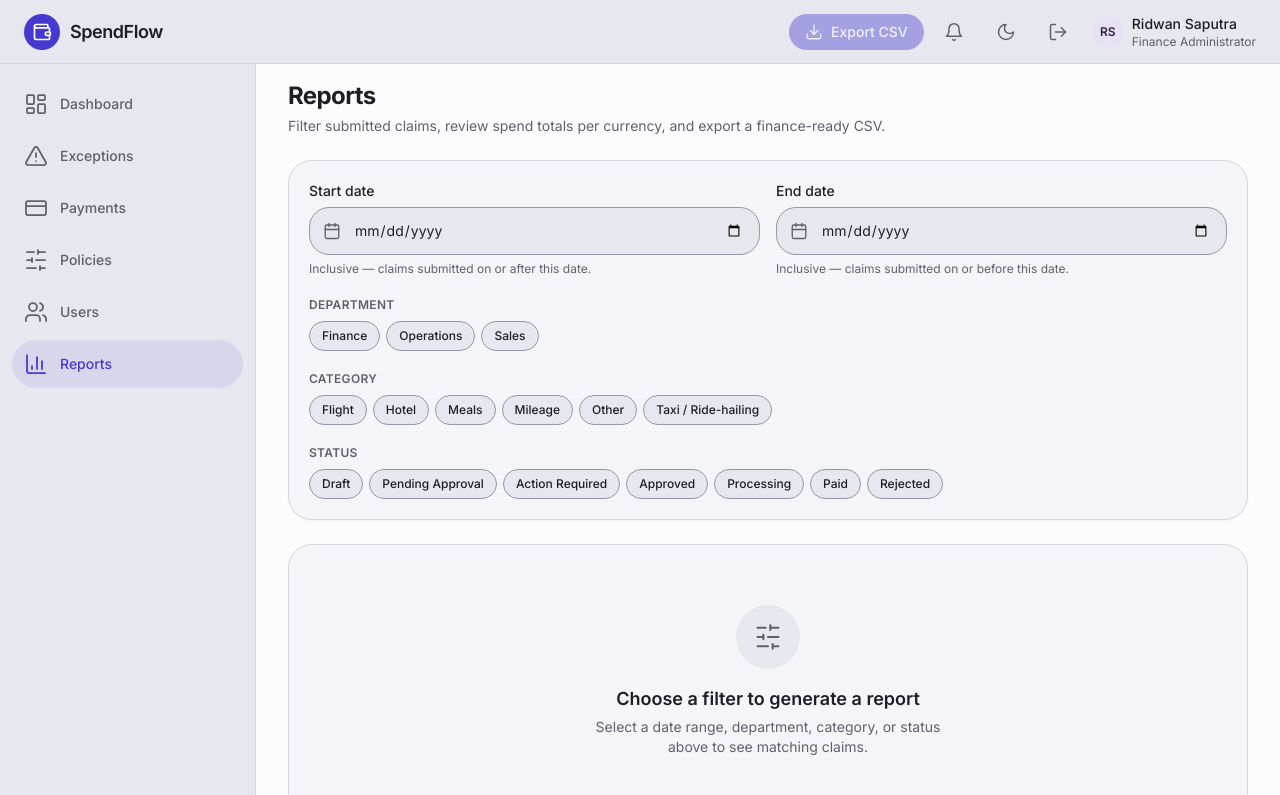
Test: Reports page — combinable filters › shows an empty state (zero rows) when a valid filter set matches nothing
The width and height of the screenshot is (1280, 795).
Expected: the heading "Choose a filter to generate a report" is shown, 616,685 -> 920,713
Click the button "Paid" at (836,484), box 810,469 -> 861,499
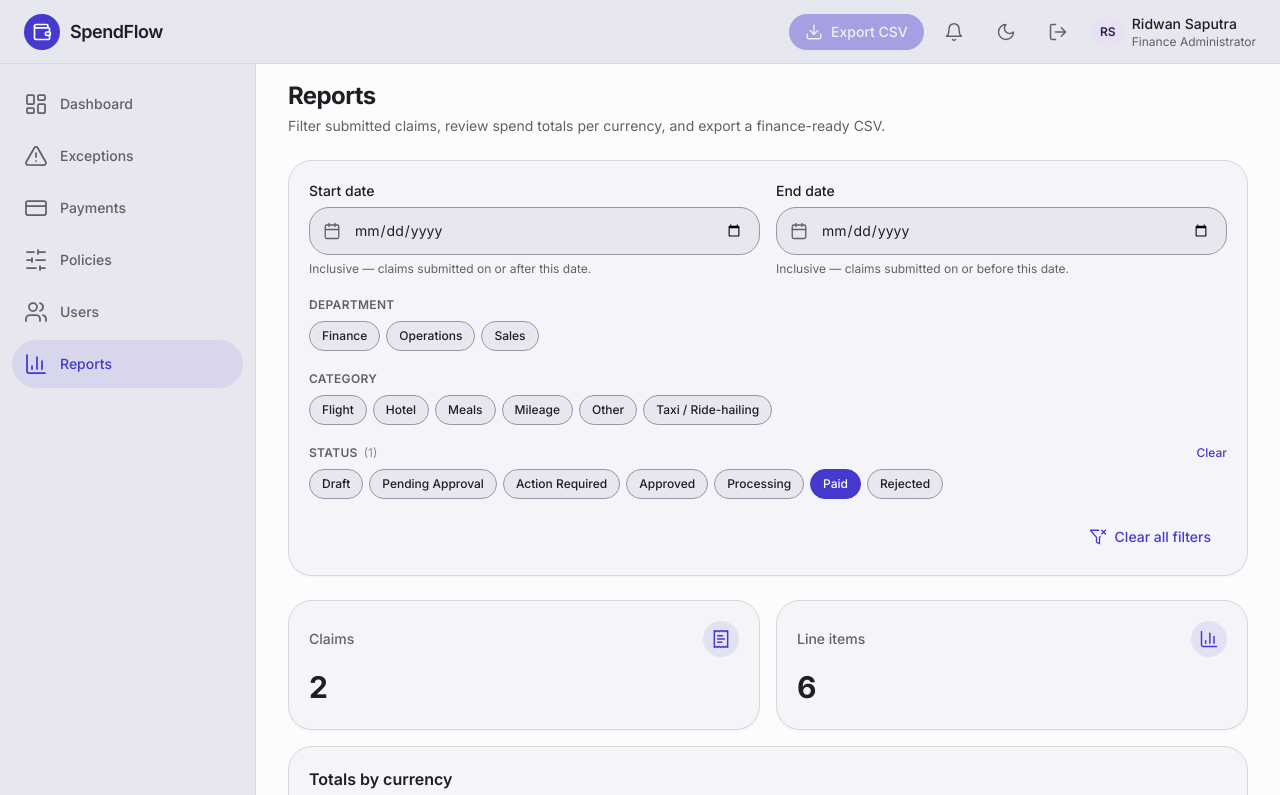
Type "2020-01-01" into the date field labelled "Start date" at (534,231), box 309,207 -> 760,255
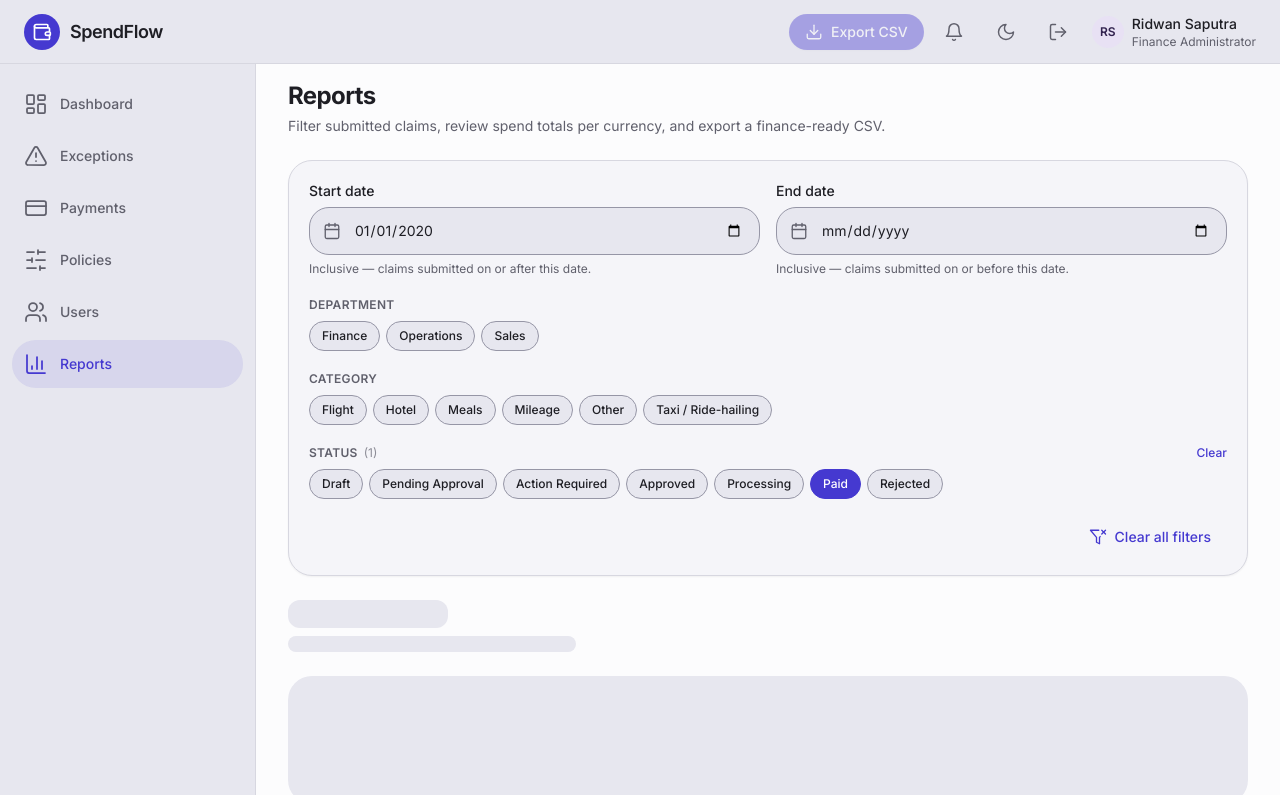
Type "2020-12-31" into the date field labelled "End date" at (1002,231), box 776,207 -> 1227,255
(page scrolled)
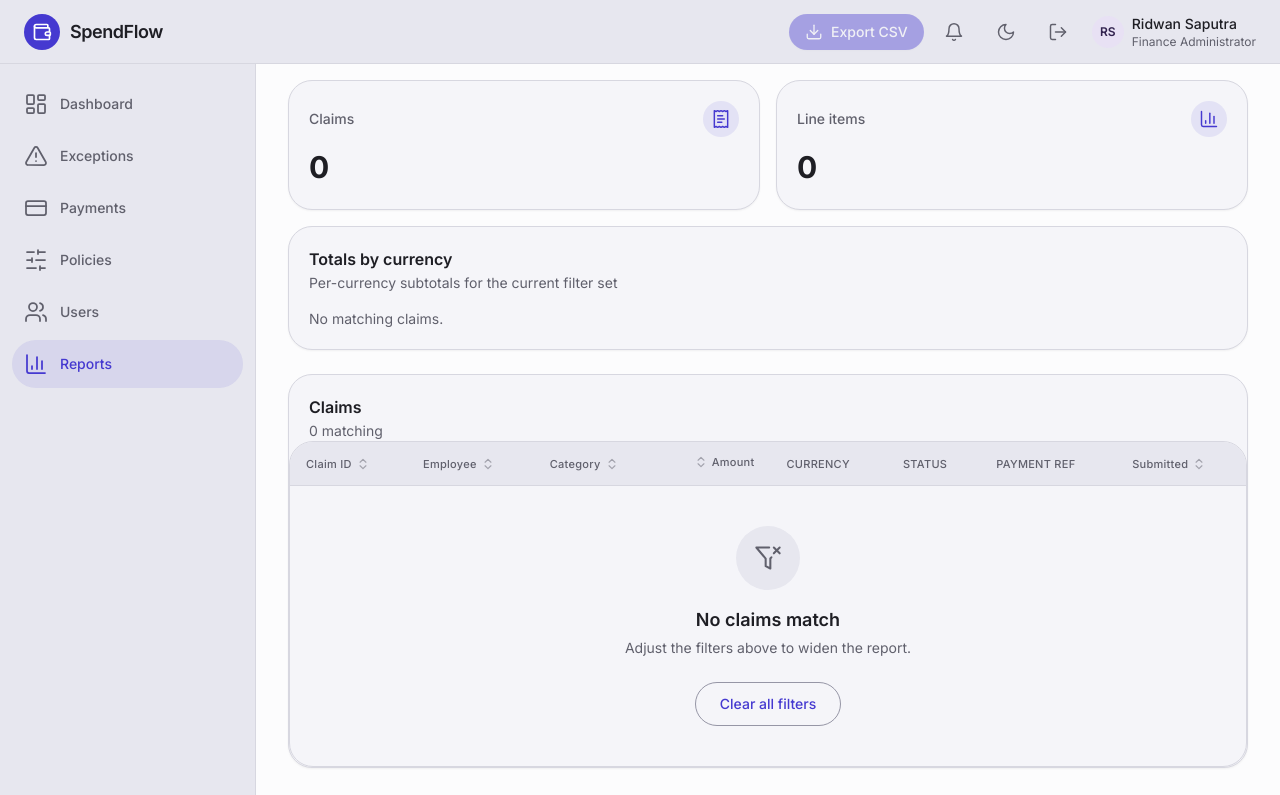
Expected: the heading "No claims match" is shown, 696,606 -> 840,634
Expected: the text "0 matching" is shown, 309,421 -> 383,441
